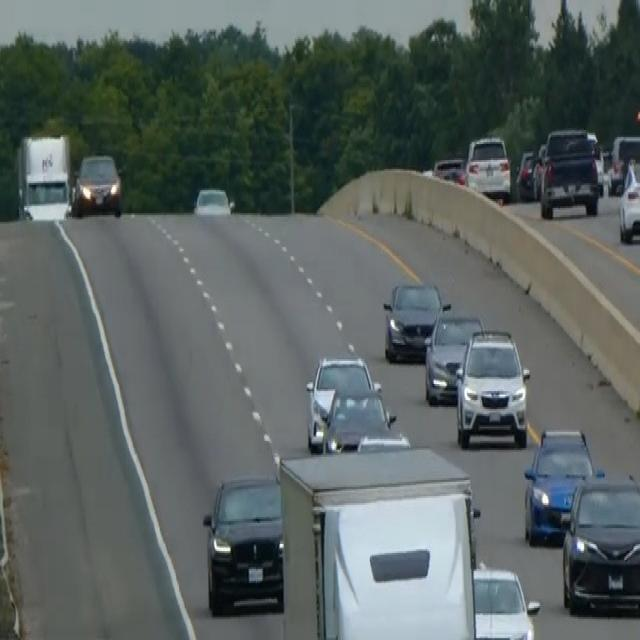car: (202, 471, 284, 615), (560, 469, 639, 617), (522, 425, 595, 546), (305, 352, 378, 448), (423, 306, 484, 405), (382, 277, 447, 363), (321, 384, 397, 453), (471, 564, 540, 638), (72, 151, 123, 217), (464, 133, 511, 203), (567, 132, 604, 196), (607, 132, 639, 196), (617, 158, 639, 244), (193, 185, 233, 217), (515, 148, 538, 199), (432, 155, 465, 185)
jeep: (538, 124, 602, 220)
lorry: (14, 130, 73, 222)
minivan: (453, 324, 531, 449)
truck: (277, 444, 480, 638)
